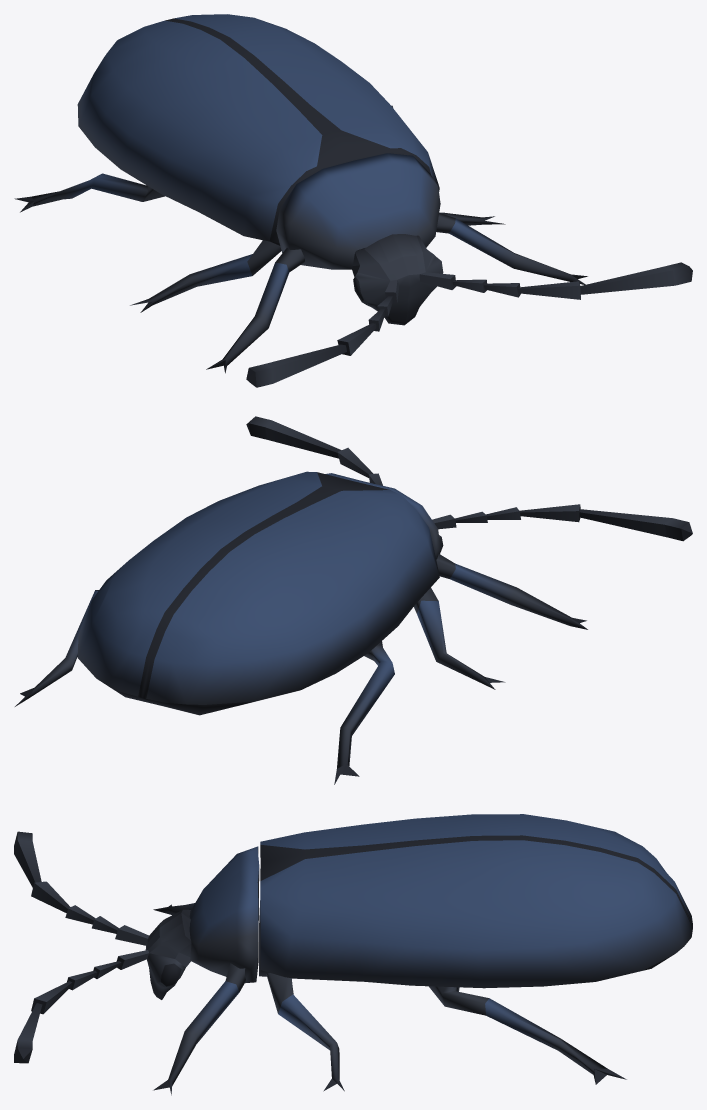
The model's file is animals-insects-alderleafbeetle_v1.glb.
3 renders of one model, top to bottom at view 1: azimuth 30°, elevation 25°; view 2: azimuth 150°, elevation 25°; view 3: azimuth 270°, elevation 25°, orthographic. The views are drawn at different scales.
Parts seen in each view (by area): view 1: AlderLeafBeetle.001; view 2: AlderLeafBeetle.001; view 3: AlderLeafBeetle.001.
Part boxes in pixels (<box>): AlderLeafBeetle.001: <box>14,14,692,387</box>; AlderLeafBeetle.001: <box>15,416,692,784</box>; AlderLeafBeetle.001: <box>14,814,692,1095</box>.
Size of the model in its own units: 1.42 by 0.4821 by 1.82.
